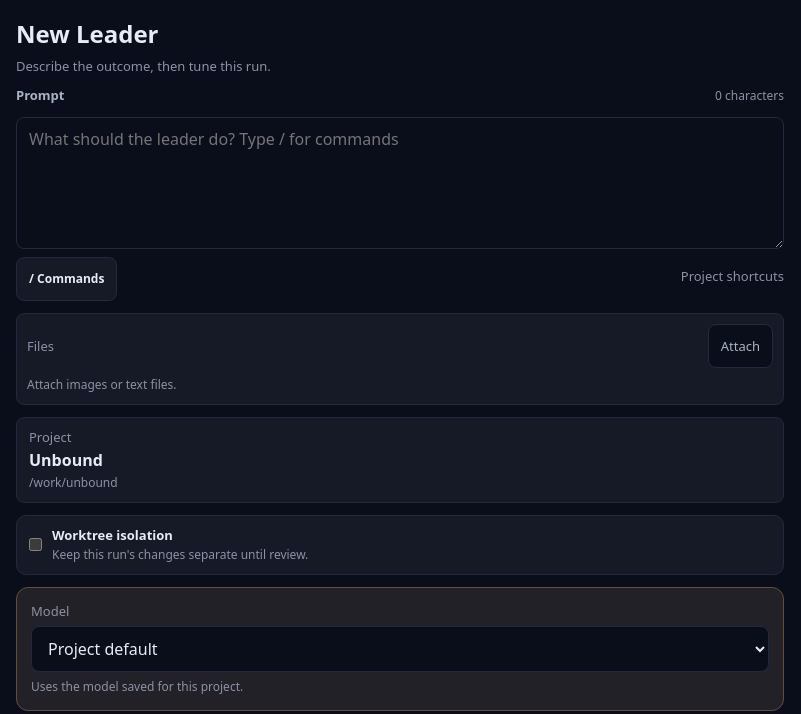
Test: LaunchScreen › keeps launch unavailable when the selected project has no identity
In the text box labelled "Prompt": (400, 182) [16,116,784,248], type "Ship it"
(page scrolled)
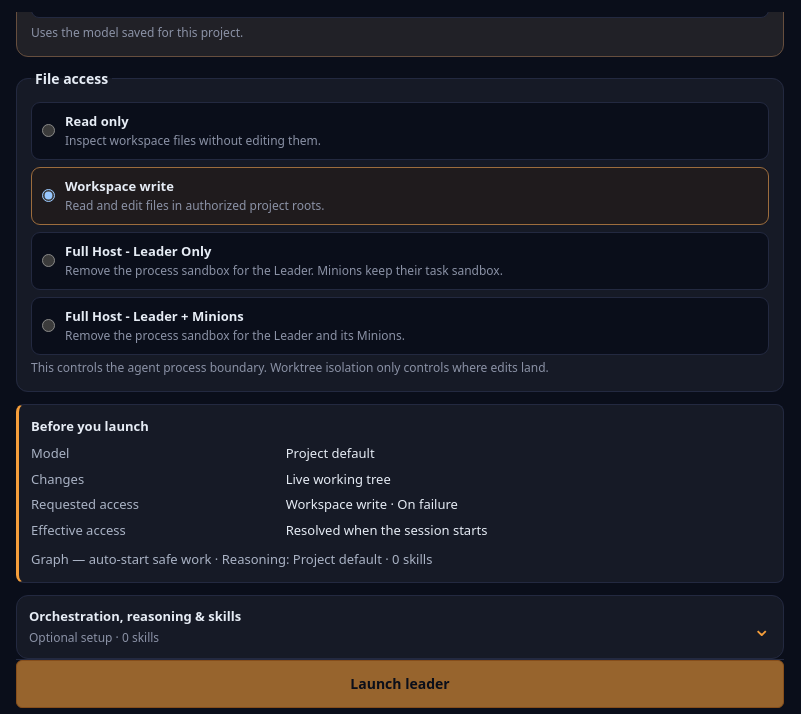
Check: the button "Launch leader" is disabled, box [16,660,784,708]
